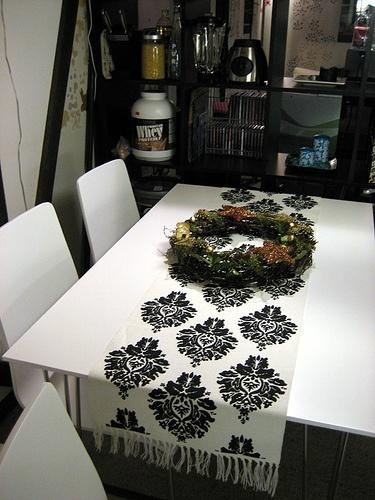bottle: (155, 8, 174, 37)
chair: (1, 382, 111, 499), (1, 199, 80, 353), (79, 157, 144, 266)
diningtable: (6, 184, 375, 500)
